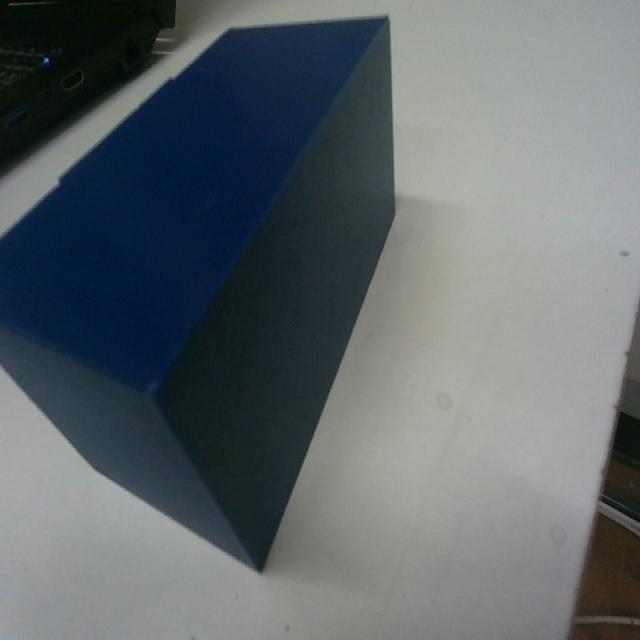Blue Cuboid: (0, 11, 398, 572)
